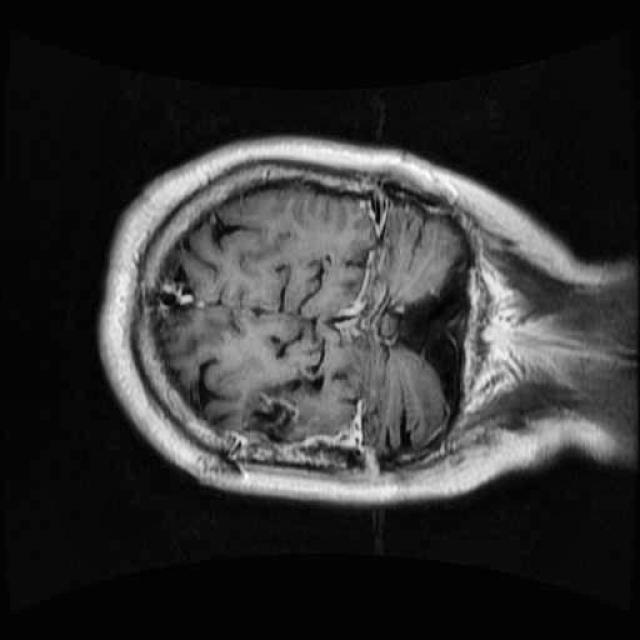Tumor: (206, 362, 326, 481)
